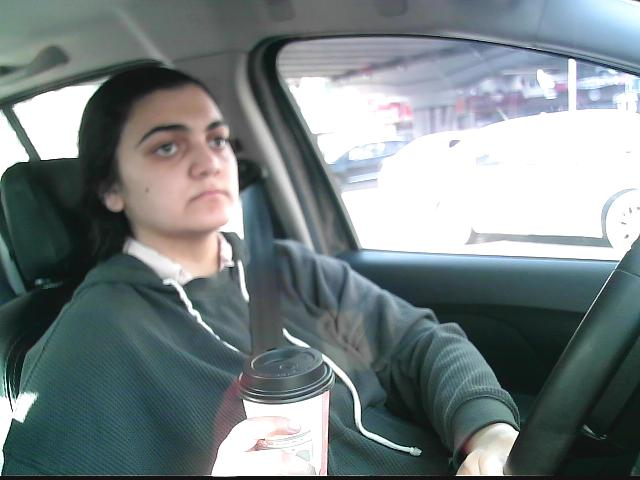Drinking: (234, 341, 335, 480)
